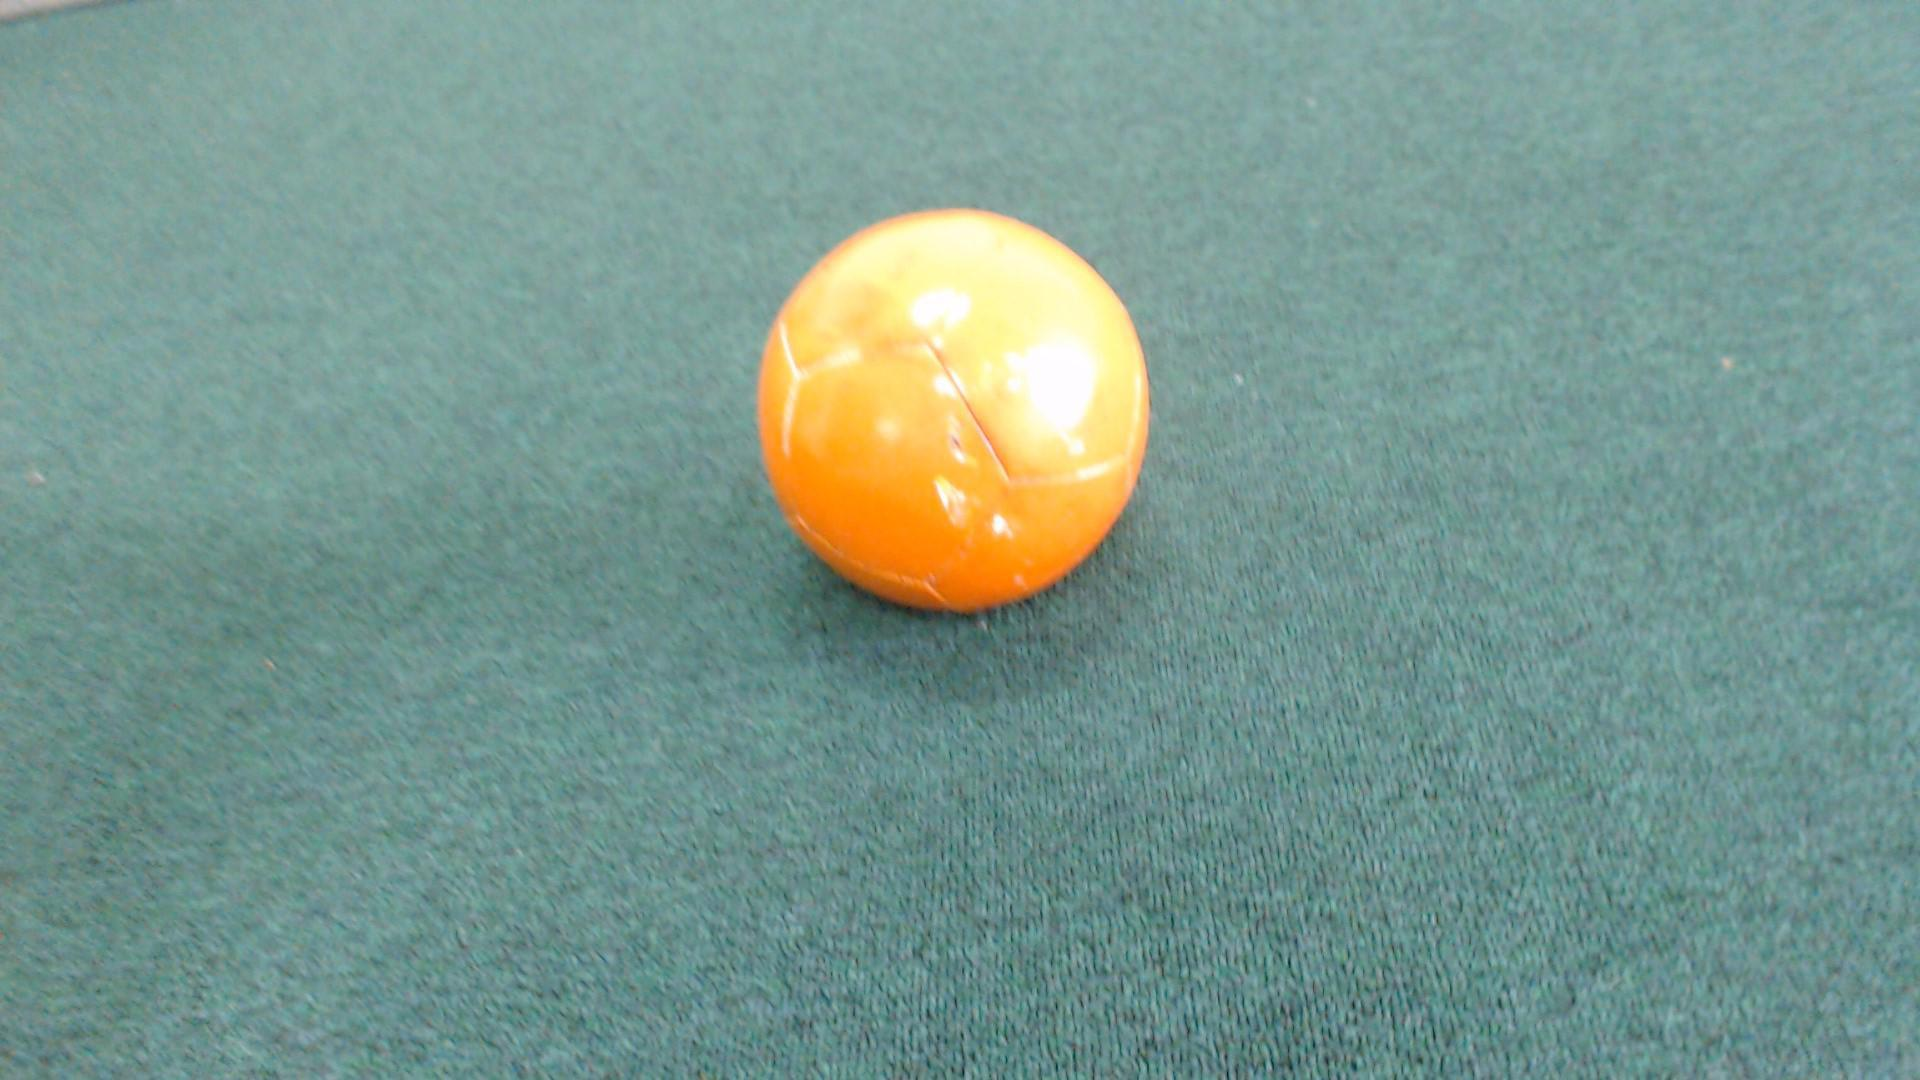bola: (732, 186, 1159, 633)
